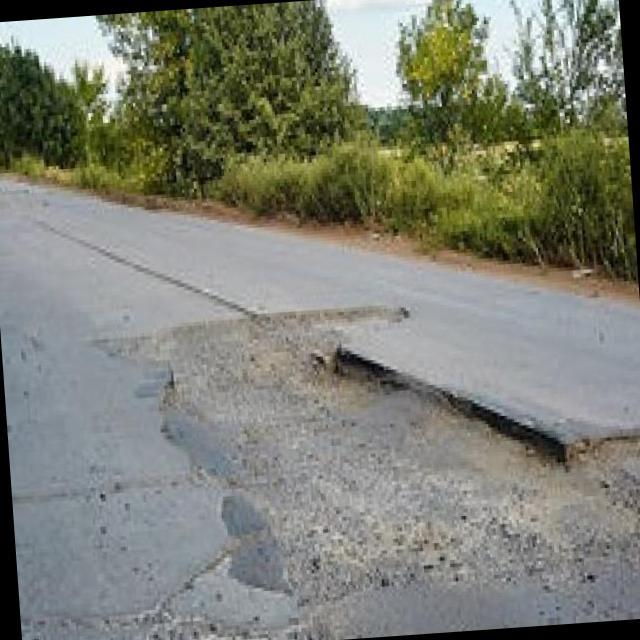Pothole: (119, 309, 640, 637)
